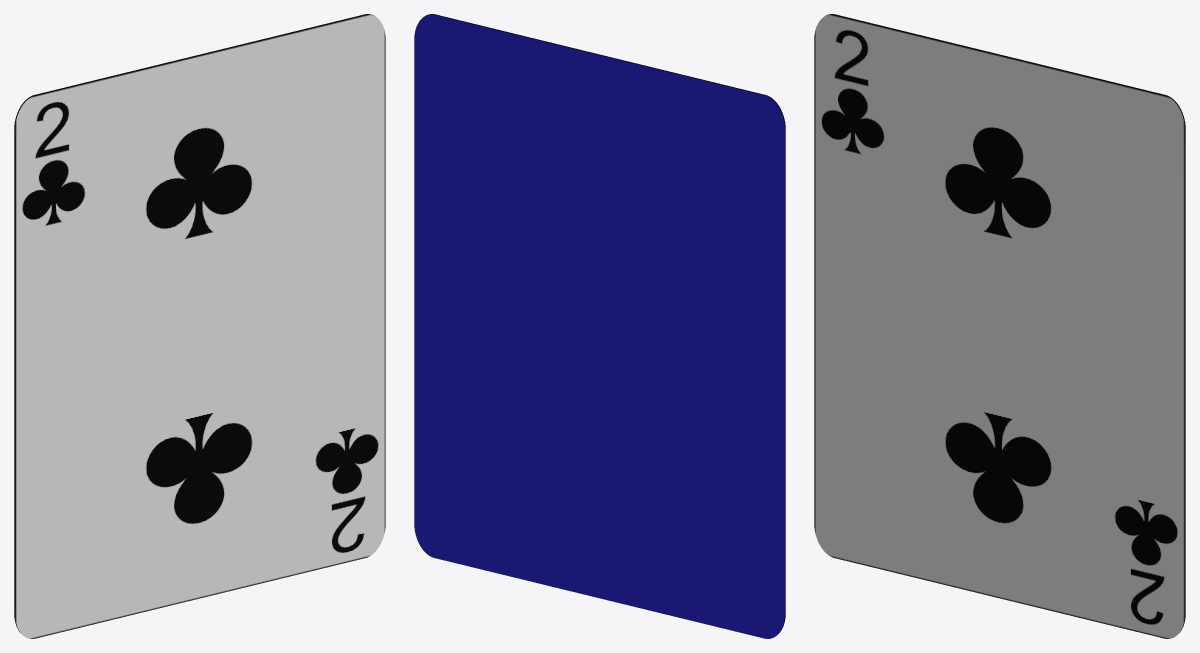
The model's file is 2Clubs_Test.fbx.
3 renders of one model, left to right at view 1: azimuth 30°, elevation 25°; view 2: azimuth 150°, elevation 25°; view 3: azimuth 330°, elevation 25°, orthographic.
Visible parts, largest first — view 1: Cube; view 2: Cube; view 3: Cube.
Boxes of the visible parts, box(x1,y1,x2,y2) form: Cube: box(14, 14, 385, 638); Cube: box(414, 14, 785, 638); Cube: box(814, 14, 1185, 638).
Size of the model in its own units: 500 by 700 by 2.
